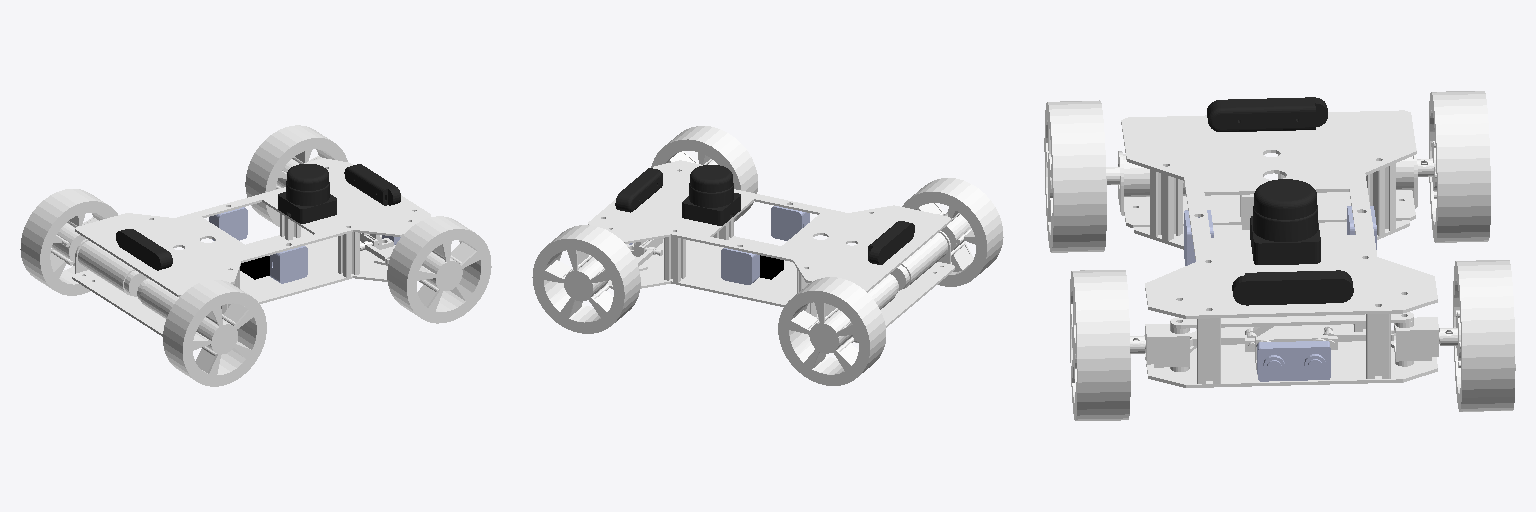
--- Facts derived from the render (not from the file) ---
3 views of the same robot in one strip: view 1: azimuth 30°, elevation 25°; view 2: azimuth 150°, elevation 25°; view 3: azimuth 270°, elevation 25° (orthographic).
Robot: jasonackerman — 15 links, 14 joints (2 revolute, 6 continuous, 6 fixed); root link base_footprint; default pose: all joints at 0.
Links seen in each view (by area): view 1: base_link, frwheel_link, rrwheel_link, rlwheel_link, flwheel_link, lidar_link, bcamera_link, fcamera_link, rcamera_link, lcamera_link; view 2: base_link, flwheel_link, rlwheel_link, rrwheel_link, frwheel_link, lidar_link, lcamera_link, fcamera_link, bcamera_link, rcamera_link; view 3: base_link, rrwheel_link, flwheel_link, rlwheel_link, frwheel_link, lidar_link, fcamera_link, bcamera_link, ultrasonic_link, flsteer_link, frsteer_link, rcamera_link.
Link boxes in pixels (x1,y1,x2,y2): base_link: [72, 158, 430, 336]; frwheel_link: [387, 216, 491, 323]; rrwheel_link: [163, 280, 266, 386]; rlwheel_link: [20, 189, 117, 295]; flwheel_link: [245, 125, 347, 226]; lidar_link: [278, 164, 336, 223]; bcamera_link: [116, 229, 172, 270]; fcamera_link: [344, 164, 400, 205]; rcamera_link: [270, 246, 307, 283]; lcamera_link: [209, 207, 247, 240]; base_link: [588, 160, 954, 342]; flwheel_link: [532, 225, 640, 333]; rlwheel_link: [778, 277, 885, 385]; rrwheel_link: [902, 178, 1003, 286]; frwheel_link: [651, 126, 757, 221]; lidar_link: [682, 165, 740, 225]; lcamera_link: [721, 248, 759, 284]; fcamera_link: [615, 168, 662, 212]; bcamera_link: [868, 221, 914, 264]; rcamera_link: [771, 206, 809, 240]; base_link: [1118, 110, 1437, 387]; rrwheel_link: [1044, 100, 1119, 252]; flwheel_link: [1439, 260, 1515, 411]; rlwheel_link: [1417, 91, 1490, 242]; frwheel_link: [1070, 270, 1144, 420]; lidar_link: [1250, 179, 1320, 264]; fcamera_link: [1232, 270, 1353, 305]; bcamera_link: [1207, 97, 1327, 131]; ultrasonic_link: [1257, 341, 1330, 381]; flsteer_link: [1391, 317, 1452, 366]; frsteer_link: [1133, 324, 1196, 371]; rcamera_link: [1184, 210, 1213, 265].
Bounding box of the posed robot: 0.4778 × 0.3892 × 0.1586 m (x, y, z).
14 mesh visuals loaded from 14 distinct referenced files (14 binary STL).

robot.urdf — jasonackerman:
<?xml version="1.0" encoding="utf-8"?>
<!-- This URDF was automatically created by SolidWorks to URDF Exporter! Originally created by Stephen Brawner ([email redacted]) 
     Commit Version: 1.6.0-4-g7f85cfe  Build Version: 1.6.7995.38578
     For more information, please see http://wiki.ros.org/sw_urdf_exporter -->
<robot name="jasonackerman">


  <link name="base_footprint"> 
    <visual>
      <origin rpy = "0.0 0.0 0.0" xyz="0.0 0.0 0.0"/>
      <geometry>
        <sphere radius="0.001"/>
      </geometry>
    </visual>  
  </link>
  <joint name="base_footprint_joint" type="fixed">
    <parent link="base_footprint"/>
    <child link="base_link"/>
    <origin xyz = "0.0 0.0 0.0" rpy = "0.0 0.0 0.0"/>
  </joint>

                                                                        <!-- base -->
  <link name="base_link">
    <inertial>
      <origin xyz="-0.0986307962771763 -0.00606145083501515 0.0246784205888152" rpy="0 0 0" />
      <mass value="0.79045002241351" />
      <inertia ixx="0.00184431642632397" ixy="-0.000198633690901434" ixz="2.57251850601182E-05" iyy="0.00507967476184612" iyz="1.33844388662259E-06" izz="0.00682311065651123" />
    </inertial>
    <visual>
      <origin xyz="0 0 0" rpy="0 0 0" />
      <geometry>
        <mesh filename="package://jasonackerman_description/meshes/base_link.STL" />
      </geometry>
      <material name="">
        <color rgba="1 1 1 1" />
      </material>
    </visual>
    <collision>
      <origin xyz="0 0 0" rpy="0 0 0" />
      <geometry>
        <mesh filename="package://jasonackerman_description/meshes/base_link.STL" />
      </geometry>
    </collision>
  </link>


                                                                        <!-- steer -->
  <link name="flsteer_link">
    <inertial>
      <origin xyz="-0.00177697904001206 0.0119947793633224 0.0199481108483651" rpy="0 0 0" />
      <mass value="0.0218317063586754" />
      <inertia ixx="4.40448024102751E-06" ixy="-3.1624058432679E-07" ixz="-2.28701360440268E-07" iyy="3.63268556135629E-06" iyz="-4.57135524280506E-07" izz="3.88383942272061E-06" />
    </inertial>
    <visual>
      <origin xyz="0 0 0" rpy="0 0 0" />
      <geometry>
        <mesh filename="package://jasonackerman_description/meshes/flsteer_link.STL" />
      </geometry>
      <material name="">
        <color rgba="1 1 1 1" />
      </material>
    </visual>
    <collision>
      <origin xyz="0 0 0" rpy="0 0 0" />
      <geometry>
        <mesh filename="package://jasonackerman_description/meshes/flsteer_link.STL" />
      </geometry>
    </collision>
  </link>
  <joint name="flsteer_joint" type="revolute">
    <origin xyz="0.106453911885353 0.0996848077366239 0" rpy="0 0 0" />
    <parent link="base_link" />
    <child link="flsteer_link" />
    <axis xyz="0 0 -1" />
    <limit lower="-0.7854" upper="0.7854" effort="10.0" velocity="1.0" />
  </joint>



                                                                        <!-- front wheel -->
  <link name="flwheel_link">
    <inertial>
      <origin xyz="0.00131867951869688 -0.0215873377409562 -2.06217626327714E-06" rpy="0 0 0" />
      <mass value="0.3242426774999" />
      <inertia ixx="0.000436832485006" ixy="-2.01912753093833E-05" ixz="3.32663356607194E-09" iyy="0.000765470002116753" iyz="-1.89576020442492E-08" izz="0.000435597552274653" />
    </inertial>
    <visual>
      <origin xyz="0 0 0" rpy="0 0 0" />
      <geometry>
        <mesh filename="package://jasonackerman_description/meshes/flwheel_link.STL" />
      </geometry>
      <material name="">
        <color rgba="1 1 1 1" />
      </material>
    </visual>
    <collision>
      <origin xyz="0 0 0" rpy="0 0 0" />
      <geometry>
        <mesh filename="package://jasonackerman_description/meshes/flwheel_link.STL" />
      </geometry>
    </collision>
  </link>
  <joint name="flwheel_joint" type="continuous">
    <origin xyz="-0.00537227147906794 0.0878358622611242 0.0225" rpy="0 0 0" />
    <parent link="flsteer_link" />
    <child link="flwheel_link" />
    <axis xyz="-0.0610485395348633 0.998134798421867 0" />
  </joint>




  <link name="frsteer_link">
    <inertial>
      <origin xyz="-0.000394943646332052 -0.0121178807807012 0.0199493021246534" rpy="0 0 0" />
      <mass value="0.0218317063585599" />
      <inertia ixx="4.32374855527671E-06" ixy="3.95205273039856E-07" ixz="-2.79667787576202E-07" iyy="3.71358482888032E-06" iyz="4.28367255252075E-07" izz="3.88376877520161E-06" />
    </inertial>
    <visual>
      <origin xyz="0 0 0" rpy="0 0 0" />
      <geometry>
        <mesh filename="package://jasonackerman_description/meshes/frsteer_link.STL" />
      </geometry>
      <material name="">
        <color rgba="1 1 1 1" />
      </material>
    </visual>
    <collision>
      <origin xyz="0 0 0" rpy="0 0 0" />
      <geometry>
        <mesh filename="package://jasonackerman_description/meshes/frsteer_link.STL" />
      </geometry>
    </collision>
  </link>
  <joint name="frsteer_joint" type="revolute">
    <origin xyz="0.117808940238837 -0.0859682647698433 0" rpy="0 0 0" />
    <parent link="base_link" />
    <child link="frsteer_link" />
    <axis xyz="0 0 -1" />
    <limit lower="-0.7854" upper="0.7854" effort="10.0" velocity="1.0" />
  </joint>


  <link name="frwheel_link">
    <inertial>
      <origin xyz="-0.00112836168420899 0.021598121754364 -1.9719593480419E-06" rpy="0 0 3.14159" />
      <mass value="0.324242676446175" />
      <inertia ixx="0.000436493579511483" ixy="-1.72081327774705E-05" ixz="1.24578282847162E-09" iyy="0.000765809137392587" iyz="1.83779908086868E-08" izz="0.000435597321388143" />
    </inertial>
    <visual>
      <origin xyz="0 0 0" rpy="0 0 3.14159" />
      <geometry>
        <mesh filename="package://jasonackerman_description/meshes/frwheel_link.STL" />
      </geometry>
      <material name="">
        <color rgba="1 1 1 1" />
      </material>
    </visual>
    <collision>
      <origin xyz="0 0 0" rpy="0 0 3.14159" />
      <geometry>
        <mesh filename="package://jasonackerman_description/meshes/frwheel_link.STL" />
      </geometry>
    </collision>
  </link>
  <joint name="frwheel_joint" type="continuous">
    <origin xyz="0.00458400794141943 -0.0878805261203656 0.0224999999999998" rpy="0 0 3.14159" />
    <parent link="frsteer_link" />
    <child link="frwheel_link" />
    <axis xyz="0.0520909993342623 -0.998642342276932 0" />
  </joint>



                                                                        <!-- rear wheel -->
  <link name="rlwheel_link">
    <inertial>
      <origin xyz="0.00131880604993162 -0.0215873299960144 -2.15783193155406E-06" rpy="0 0 0" />
      <mass value="0.324242677416703" />
      <inertia ixx="0.000436832086874231" ixy="-2.01901239715866E-05" ixz="3.30795935597314E-09" iyy="0.000765470144443146" iyz="-1.98475122519418E-08" izz="0.000435597807997045" />
    </inertial>
    <visual>
      <origin xyz="0 0 0" rpy="0 0 0" />
      <geometry>
        <mesh filename="package://jasonackerman_description/meshes/rlwheel_link.STL" />
      </geometry>
      <material name="">
        <color rgba="1 1 1 1" />
      </material>
    </visual>
    <collision>
      <origin xyz="0 0 0" rpy="0 0 0" />
      <geometry>
        <mesh filename="package://jasonackerman_description/meshes/rlwheel_link.STL" />
      </geometry>
    </collision>
  </link>
  <joint name="rlwheel_joint" type="continuous">
    <origin xyz="-0.230798180068986 0.167222030602406 0.0219315857500345" rpy="0 0 0" />
    <parent link="base_link" />
    <child link="rlwheel_link" />
    <axis xyz="-0.0610485395348608 0.998134798421867 0" />
  </joint>



  <link name="rrwheel_link">
    <inertial>
      <origin xyz="-0.00131858767695536 0.0215873433627656 -1.9848024041761E-06" rpy="0 0 3.14159" />
      <mass value="0.324242677563249" />
      <inertia ixx="0.000436832786695168" ixy="-2.01921102235026E-05" ixz="-3.31730563882219E-09" iyy="0.000765469898857587" iyz="1.82392651231252E-08" izz="0.000435597353907618" />
    </inertial>
    <visual>
      <origin xyz="0 0 0" rpy="0 0 3.14159" />
      <geometry>
        <mesh filename="package://jasonackerman_description/meshes/rrwheel_link.STL" />
      </geometry>
      <material name="">
        <color rgba="1 1 1 1" />
      </material>
    </visual>
    <collision>
      <origin xyz="0 0 0" rpy="0 0 3.14159" />
      <geometry>
        <mesh filename="package://jasonackerman_description/meshes/rrwheel_link.STL" />
      </geometry>
    </collision>
  </link>
  <joint name="rrwheel_joint" type="continuous">
    <origin xyz="-0.208698608757365 -0.19410276642631 0.0219315857500352" rpy="0 0 3.14159" />
    <parent link="base_link" />
    <child link="rrwheel_link" />
    <axis xyz="0.061048539534864 -0.998134798421867 0" />
  </joint>




                                                                        <!-- camera -->
  <link name="fcamera_link">
    <inertial>
      <origin xyz="-0.00170382938425588 0.00163382240656459 -0.0109226856100445" rpy="0 0 0" />
      <mass value="0.0390086366740058" />
      <inertia ixx="2.9502573707424E-05" ixy="2.05444935904127E-06" ixz="-5.13862836147214E-09" iyy="2.89518204934742E-06" iyz="4.92749229094257E-09" izz="2.94298435364155E-05" />
    </inertial>
    <visual>
      <origin xyz="0 0 0" rpy="0 0 0" />
      <geometry>
        <mesh filename="package://jasonackerman_description/meshes/fcamera_link.STL" />
      </geometry>
      <material name="">
        <color rgba="0.203921568627451 0.203921568627451 0.203921568627451 1" />
      </material>
    </visual>
    <collision>
      <origin xyz="0 0 0" rpy="0 0 0" />
      <geometry>
        <mesh filename="package://jasonackerman_description/meshes/fcamera_link.STL" />
      </geometry>
    </collision>
  </link>
  <joint name="fcamera_joint" type="fixed">
    <origin xyz="0.119617437050258 0.00731613552990169 0.085" rpy="0 0 0" />
    <parent link="base_link" />
    <child link="fcamera_link" />
    <axis xyz="0 0 0" />
  </joint>


  <link name="bcamera_link">
    <inertial>
      <origin xyz="0.00170382938425589 -0.0016338224065646 -0.0109226856100445" rpy="0 0 3.14159" />
      <mass value="0.0390086366740059" />
      <inertia ixx="2.9502573707424E-05" ixy="2.05444935904127E-06" ixz="5.13862836147189E-09" iyy="2.89518204934743E-06" iyz="-4.92749229094416E-09" izz="2.94298435364155E-05" />
    </inertial>
    <visual>
      <origin xyz="0 0 0" rpy="0 0 3.14159" />
      <geometry>
        <mesh filename="package://jasonackerman_description/meshes/bcamera_link.STL" />
      </geometry>
      <material name="">
        <color rgba="0.203921568627451 0.203921568627451 0.203921568627451 1" />
      </material>
    </visual>
    <collision>
      <origin xyz="0 0 0" rpy="0 0 3.14159" />
      <geometry>
        <mesh filename="package://jasonackerman_description/meshes/bcamera_link.STL" />
      </geometry>
    </collision>
  </link>
  <joint name="bcamera_joint" type="fixed">
    <origin xyz="-0.219748394413174 -0.0134403679119518 0.085" rpy="0 0 3.14159" />
    <parent link="base_link" />
    <child link="bcamera_link" />
    <axis xyz="0 0 0" />
  </joint>



  <link name="lcamera_link">
    <inertial>
      <origin xyz="-8.2796611033803E-05 1.79283096854443E-05 -0.0212135677013229" rpy="0 0 0" />
      <mass value="0.037657741050606" />
      <inertia ixx="6.93835561986254E-06" ixy="-2.54017499733702E-07" ixz="6.65889857267212E-10" iyy="1.082661267843E-05" iyz="-1.44188021712025E-10" izz="7.00079774148615E-06" />
    </inertial>
    <visual>
      <origin xyz="0 0 0" rpy="0 0 0" />
      <geometry>
        <mesh filename="package://jasonackerman_description/meshes/lcamera_link.STL" />
      </geometry>
      <material name="">
        <color rgba="0.792156862745098 0.819607843137255 0.933333333333333 1" />
      </material>
    </visual>
    <collision>
      <origin xyz="0 0 0" rpy="0 0 0" />
      <geometry>
        <mesh filename="package://jasonackerman_description/meshes/lcamera_link.STL" />
      </geometry>
    </collision>
  </link>
  <joint name="lcamera_joint" type="continuous">
    <origin xyz="-0.0541862551002299 0.0643119827024453 0.06" rpy="0 0 0" />
    <parent link="base_link" />
    <child link="lcamera_link" />
    <axis xyz="0 0 -1" />
  </joint>


  <link name="rcamera_link">
    <inertial>
      <origin xyz="8.2796611033803E-05 -1.79283096854374E-05 -0.0212135677013229" rpy="0 0 0" />
      <mass value="0.037657741050606" />
      <inertia ixx="6.93835561986254E-06" ixy="-2.54017499733703E-07" ixz="-6.6588985726657E-10" iyy="1.082661267843E-05" iyz="1.44188021712714E-10" izz="7.00079774148615E-06" />
    </inertial>
    <visual>
      <origin xyz="0 0 0" rpy="0 0 0" />
      <geometry>
        <mesh filename="package://jasonackerman_description/meshes/rcamera_link.STL" />
      </geometry>
      <material name="">
        <color rgba="0.792156862745098 0.819607843137255 0.933333333333333 1" />
      </material>
    </visual>
    <collision>
      <origin xyz="0 0 0" rpy="0 0 0" />
      <geometry>
        <mesh filename="package://jasonackerman_description/meshes/rcamera_link.STL" />
      </geometry>
    </collision>
  </link>
  <joint name="rcamera_joint" type="continuous">
    <origin xyz="-0.0459447022626867 -0.0704362150844954 0.06" rpy="0 0 0" />
    <parent link="base_link" />
    <child link="rcamera_link" />
    <axis xyz="0 0 -1" />
  </joint>


                                                                        <!-- lidar -->
  <link name="lidar_link">
    <inertial>
      <origin xyz="2.9929694273307E-05 1.83057852205792E-06 -0.0299033138303013" rpy="0 0 0" />
      <mass value="0.137399177283447" />
      <inertia ixx="6.30724236609995E-05" ixy="6.40384040481474E-09" ixz="9.08685421506256E-08" iyy="6.2968113471547E-05" iyz="5.55775812718171E-09" izz="5.7522181737932E-05" />
    </inertial>
    <visual>
      <origin xyz="0 0 0" rpy="0 0 0" />
      <geometry>
        <mesh filename="package://jasonackerman_description/meshes/lidar_link.STL" />
      </geometry>
      <material name="">
        <color rgba="0.203921568627451 0.203921568627451 0.203921568627451 1" />
      </material>
    </visual>
    <collision>
      <origin xyz="0 0 0" rpy="0 0 0" />
      <geometry>
        <mesh filename="package://jasonackerman_description/meshes/lidar_link.STL" />
      </geometry>
    </collision>
  </link>
  <joint name="lidar_joint" type="fixed">
    <origin xyz="0.0225488279037325 0.0013791650601363 0.118" rpy="0 0 0" />
    <parent link="base_link" />
    <child link="lidar_link" />
    <axis xyz="0 0 0" />
  </joint>


                                                                        <!-- imu -->
  <link name="imu_link">
    <inertial>
      <origin xyz="-1.38777878078145E-17 0 -0.00799253916575123" rpy="0 0 0" />
      <mass value="0.0184747942495883" />
      <inertia ixx="2.17543786278253E-06" ixy="2.95997067161085E-22" ixz="2.36673597884658E-22" iyy="2.17543786278253E-06" iyz="-1.32339299062349E-22" izz="3.56353881019746E-06" />
    </inertial>
    <visual>
      <origin xyz="0 0 0" rpy="0 0 0" />
      <geometry>
        <mesh filename="package://jasonackerman_description/meshes/imu_link.STL" />
      </geometry>
      <material name="">
        <color rgba="0 0 0 1" />
      </material>
    </visual>
    <collision>
      <origin xyz="0 0 0" rpy="0 0 0" />
      <geometry>
        <mesh filename="package://jasonackerman_description/meshes/imu_link.STL" />
      </geometry>
    </collision>
  </link>
  <joint name="imu_joint" type="fixed">
    <origin xyz="-0.0500654786814583 -0.00306211619102503 0.016" rpy="0 0 0" />
    <parent link="base_link" />
    <child link="imu_link" />
    <axis xyz="0 0 0" />
  </joint>


                                                                        <!-- ultrasonic-->
  <link name="ultrasonic_link">
    <inertial>
      <origin xyz="-0.00532842815679485 -0.000325900627353229 0.000205324040515713" rpy="0 0 0" />
      <mass value="0.0244810506997547" />
      <inertia ixx="9.12950704269778E-06" ixy="4.27340481857346E-07" ixz="4.5737282960363E-09" iyy="2.16868918881094E-06" iyz="2.79741206441964E-10" izz="7.96032650658838E-06" />
    </inertial>
    <visual>
      <origin xyz="0 0 0" rpy="0 0 0" />
      <geometry>
        <mesh filename="package://jasonackerman_description/meshes/ultrasonic_link.STL" />
      </geometry>
      <material name="">
        <color rgba="0.792156862745098 0.819607843137255 0.933333333333333 1" />
      </material>
    </visual>
    <collision>
      <origin xyz="0 0 0" rpy="0 0 0" />
      <geometry>
        <mesh filename="package://jasonackerman_description/meshes/ultrasonic_link.STL" />
      </geometry>
    </collision>
  </link>
  <joint name="ultrasonic_joint" type="fixed">
    <origin xyz="0.142075470014752 0.00868972766943623 0.015" rpy="0 0 0" />
    <parent link="base_link" />
    <child link="ultrasonic_link" />
    <axis xyz="0 0 0" />
  </joint>




                                                                        <!-- PLUGINS -->
  <gazebo>
    <plugin name="gazebo_ros_control" filename="libgazebo_ros_control.so">
      <robotNamespace>/jasonackerman</robotNamespace>
    </plugin>
    <gravity>1</gravity>
    <friction>
      <mu>0.8</mu>
      <mu2>0.8</mu2>
    </friction>
  </gazebo>


                                                                        <!-- gazebo plugin for LIDAR -->
  <gazebo reference="lidar_link">
    <sensor type="ray" name="head_hokuyo_sensor">
      <pose>0 0 -0.03 0 0 0</pose>
      <visualize>true</visualize>
      <update_rate>15</update_rate> 
      <ray>
        <scan>
          <horizontal>
            <!-- 水平角分辨率LDS-E300-E: 0.5°@25HZ -->
            <samples>720</samples>
            <resolution>1</resolution>
            <min_angle>-3.1415926535</min_angle>
            <!-- <min_angle>-1.570796</min_angle> -->
            <max_angle>3.1415926535</max_angle>
            <!-- <max_angle>1.570796</max_angle> -->
          </horizontal>
        </scan>
        <range>
          <!-- 0.1-25m（90%） -->
          <min>0.21</min>
          <max>25.0</max>
          <!-- 距离分辨率mm级 -->
          <resolution>0.01</resolution>
        </range>
        <noise>
          <type>gaussian</type>
          <!-- Noise parameters based on published spec for Hokuyo laser
                achieving "+-30mm" accuracy at range < 10m.  A mean of 0.0m and
                stddev of 0.01m will put 99.7% of samples within 0.03m of the true
                reading. -->
          <mean>0.0</mean>
          <stddev>0.01</stddev>
        </noise>
      </ray>
      <!-- GPU Laser -->
      <!-- <plugin name="gazebo_ros_head_hokuyo_controller" filename="libgazebo_ros_gpu_laser.so"> -->
        <plugin name="gazebo_ros_head_hokuyo_controller" filename="libgazebo_ros_laser.so">
        <topicName>/scan</topicName>
        <frameName>lidar_link</frameName>
      </plugin>
    </sensor>
  </gazebo>  


                                                                        <!-- gazebo plugin for fcamera -->
 <gazebo reference="fcamera_link">
  <sensor type="depth" name="camera">
    <always_on>true</always_on>
    <update_rate>90.0</update_rate>  <!-- 根据深度分辨率的帧率 -->
    <camera>
      <!-- 深度相机参数 -->
      <horizontal_fov>1.50098</horizontal_fov>  <!-- 86° -> 1.50098 弧度 -->
      <image>
        <format>B8G8R8</format>
        <width>1280</width>
        <height>720</height>
      </image>
      <clip>
        <near>0.3</near>  <!-- 根据理想范围参数 -->
        <far>3.0</far>    <!-- 根据理想范围参数 -->
      </clip>
    </camera>
    <plugin name="camera_plugin" filename="libgazebo_ros_openni_kinect.so">
      <baseline>0.025</baseline>  <!-- 根据相机尺寸估算 -->
      <alwaysOn>true</alwaysOn>
      <updateRate>0.0</updateRate> <!-- 保持为0，使用父级<sensor>标签中的update_rate来控制帧率 -->
      <cameraName>fcamera_ir</cameraName>
      <imageTopicName>/fcamera/color/image_raw</imageTopicName>
      <cameraInfoTopicName>/fcamera/color/camera_info</cameraInfoTopicName>
      <depthImageTopicName>/fcamera/depth/image_raw</depthImageTopicName>
      <depthImageCameraInfoTopicName>/fcamera/depth/camera_info</depthImageCameraInfoTopicName>
      <pointCloudTopicName>/fcamera/depth/points</pointCloudTopicName>
      <frameName>fcamera_link</frameName>
      <pointCloudCutoff>0.3</pointCloudCutoff>  <!-- 根据理想范围参数 -->
      <pointCloudCutoffMax>3.0</pointCloudCutoffMax>  <!-- 根据理想范围参数 -->
      <distortionK1>0</distortionK1>
      <distortionK2>0</distortionK2>
      <distortionK3>0</distortionK3>
      <distortionT1>0</distortionT1>
      <distortionT2>0</distortionT2>
      <CxPrime>0</CxPrime>
      <Cx>0</Cx>
      <Cy>0</Cy>
      <focalLength>0</focalLength>
      <hackBaseline>0</hackBaseline>
    </plugin>
  </sensor>
</gazebo>


                                                                        <!-- gazebo plugin for bcamera -->
 <gazebo reference="bcamera_link">
  <sensor type="depth" name="camera">
    <always_on>true</always_on>
    <update_rate>90.0</update_rate>  <!-- 根据深度分辨率的帧率 -->
    <camera>
      <!-- 深度相机参数 -->
      <horizontal_fov>1.50098</horizontal_fov>  <!-- 86° -> 1.50098 弧度 -->
      <image>
        <format>B8G8R8</format>
        <width>1280</width>
        <height>720</height>
      </image>
      <clip>
        <near>0.3</near>  <!-- 根据理想范围参数 -->
        <far>3.0</far>    <!-- 根据理想范围参数 -->
      </clip>
    </camera>
    <plugin name="camera_plugin" filename="libgazebo_ros_openni_kinect.so">
      <baseline>0.025</baseline>  <!-- 根据相机尺寸估算 -->
      <alwaysOn>true</alwaysOn>
      <updateRate>0.0</updateRate> <!-- 保持为0，使用父级<sensor>标签中的update_rate来控制帧率 -->
      <cameraName>bcamera_ir</cameraName>
      <imageTopicName>/bcamera/color/image_raw</imageTopicName>
      <cameraInfoTopicName>/bcamera/color/camera_info</cameraInfoTopicName>
      <depthImageTopicName>/bcamera/depth/image_raw</depthImageTopicName>
      <depthImageCameraInfoTopicName>/bcamera/depth/camera_info</depthImageCameraInfoTopicName>
      <pointCloudTopicName>/bcamera/depth/points</pointCloudTopicName>
      <frameName>bcamera_link</frameName>
      <pointCloudCutoff>0.3</pointCloudCutoff>  <!-- 根据理想范围参数 -->
      <pointCloudCutoffMax>3.0</pointCloudCutoffMax>  <!-- 根据理想范围参数 -->
      <distortionK1>0</distortionK1>
      <distortionK2>0</distortionK2>
      <distortionK3>0</distortionK3>
      <distortionT1>0</distortionT1>
      <distortionT2>0</distortionT2>
      <CxPrime>0</CxPrime>
      <Cx>0</Cx>
      <Cy>0</Cy>
      <focalLength>0</focalLength>
      <hackBaseline>0</hackBaseline>
    </plugin>
  </sensor>
</gazebo>


                                                                        <!-- gazebo plugin for imu -->
  <gazebo reference="imu_link">
    <gravity>true</gravity>
    <sensor name="imu_sensor" type="imu">
      <always_on>true</always_on>
      <update_rate>100</update_rate>
      <visualize>true</visualize>
      <topic>__default_topic__</topic>
      <plugin filename="libgazebo_ros_imu_sensor.so" name="imu_plugin">
        <topicName>imu/data</topicName>
        <bodyName>body_link</bodyName>
        <updateRateHZ>100.0</updateRateHZ>
        <gaussianNoise>0.0</gaussianNoise>
        <xyzOffset>0 0 0</xyzOffset>
        <rpyOffset>0 0 0</rpyOffset>
        <frameName>imu_link</frameName>
      </plugin>
      <pose>0 0 0 0 0 0</pose>
    </sensor>
  </gazebo>





                                                  <!-- set transmission -->
                  <!-- steer -->
  <transmission name="flsteer_trans">
    <type>transmission_interface/SimpleTransmission</type>
    <joint name="flsteer_joint">
      <hardwareInterface>hardware_interface/EffortJointInterface</hardwareInterface>
    </joint>
    <actuator name="flsteer_motor">
      <mechanicalReduction>50</mechanicalReduction>
      <hardwareInterface>hardware_interface/EffortJointInterface</hardwareInterface>
    </actuator>
  </transmission>

  <transmission name="frsteer_trans">
    <type>transmission_interface/SimpleTransmission</type>
    <joint name="frsteer_joint">
      <hardwareInterface>hardware_interface/EffortJointInterface</hardwareInterface>
    </joint>
    <actuator name="frsteer_motor">
      <mechanicalReduction>50</mechanicalReduction>
      <hardwareInterface>hardware_interface/EffortJointInterface</hardwareInterface>
    </actuator>
  </transmission>

                                         <!-- wheel -->
  <transmission name="flwheel_trans">
    <type>transmission_interface/SimpleTransmission</type>
    <joint name="flwheel_joint">
      <hardwareInterface>hardware_interface/EffortJointInterface</hardwareInterface>
    </joint>
    <actuator name="flwheel_motor">
      <mechanicalReduction>50</mechanicalReduction>
      <hardwareInterface>hardware_interface/EffortJointInterface</hardwareInterface>
    </actuator>
  </transmission>


  <transmission name="frwheel_trans">
    <type>transmission_interface/SimpleTransmission</type>
    <joint name="frwheel_joint">
      <hardwareInterface>hardware_interface/EffortJointInterface</hardwareInterface>
    </joint>
    <actuator name="frwheel_motor">
      <mechanicalReduction>50</mechanicalReduction>
      <hardwareInterface>hardware_interface/EffortJointInterface</hardwareInterface>
    </actuator>
  </transmission>


  <transmission name="rlwheel_trans">
    <type>transmission_interface/SimpleTransmission</type>
    <joint name="rlwheel_joint">
      <hardwareInterface>hardware_interface/EffortJointInterface</hardwareInterface>
    </joint>
    <actuator name="rlwheel_motor">
      <mechanicalReduction>50</mechanicalReduction>
      <hardwareInterface>hardware_interface/EffortJointInterface</hardwareInterface>
    </actuator>
  </transmission>


  <transmission name="rrwheel_trans">
    <type>transmission_interface/SimpleTransmission</type>
    <joint name="rrwheel_joint">
      <hardwareInterface>hardware_interface/EffortJointInterface</hardwareInterface>
    </joint>
    <actuator name="rrwheel_motor">
      <mechanicalReduction>50</mechanicalReduction>
      <hardwareInterface>hardware_interface/EffortJointInterface</hardwareInterface>
    </actuator>
  </transmission>




</robot>
